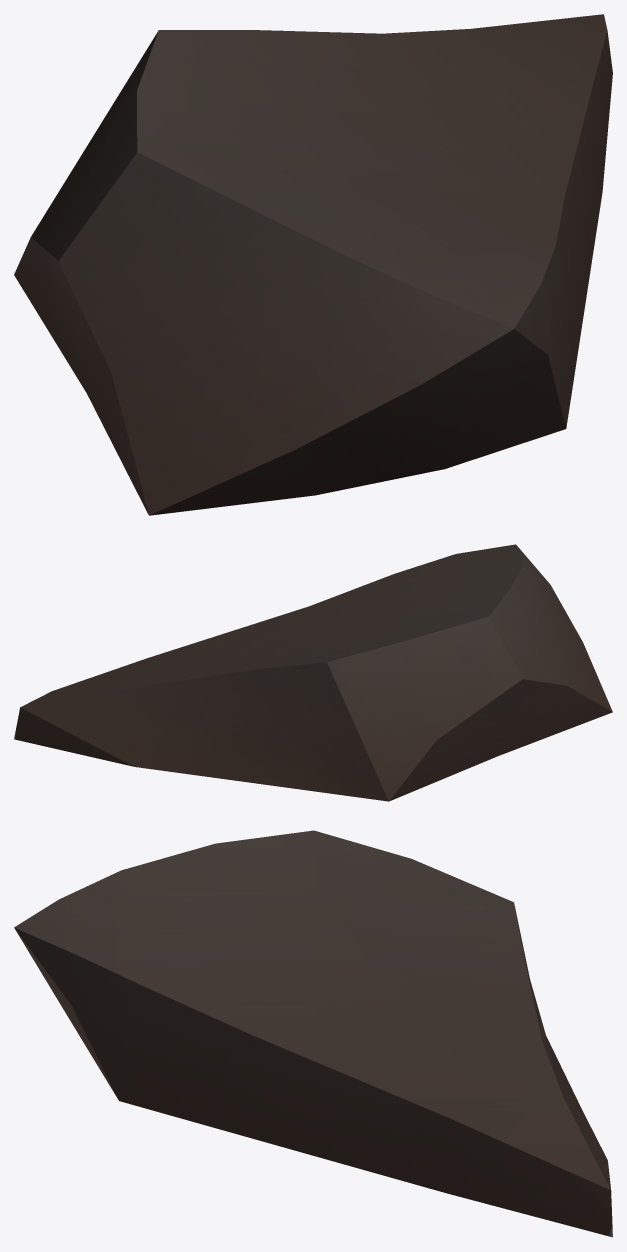
Rendered from Mountain_Stone_Dark_005.FBX.
3 renders of one model, top to bottom at view 1: azimuth 30°, elevation 25°; view 2: azimuth 150°, elevation 25°; view 3: azimuth 270°, elevation 25°, orthographic. The views are drawn at different scales.
Parts seen in each view (by area): view 1: Mountain_Stone_Dark_005; view 2: Mountain_Stone_Dark_005; view 3: Mountain_Stone_Dark_005.
Boxes of the visible parts, left/top/right/bottom form: Mountain_Stone_Dark_005: left=14, top=14, right=612, bottom=515; Mountain_Stone_Dark_005: left=14, top=544, right=612, bottom=801; Mountain_Stone_Dark_005: left=14, top=830, right=612, bottom=1237.
Bounding box in the file's own units: 461 × 135 × 427.
1 material, 1 textured.
